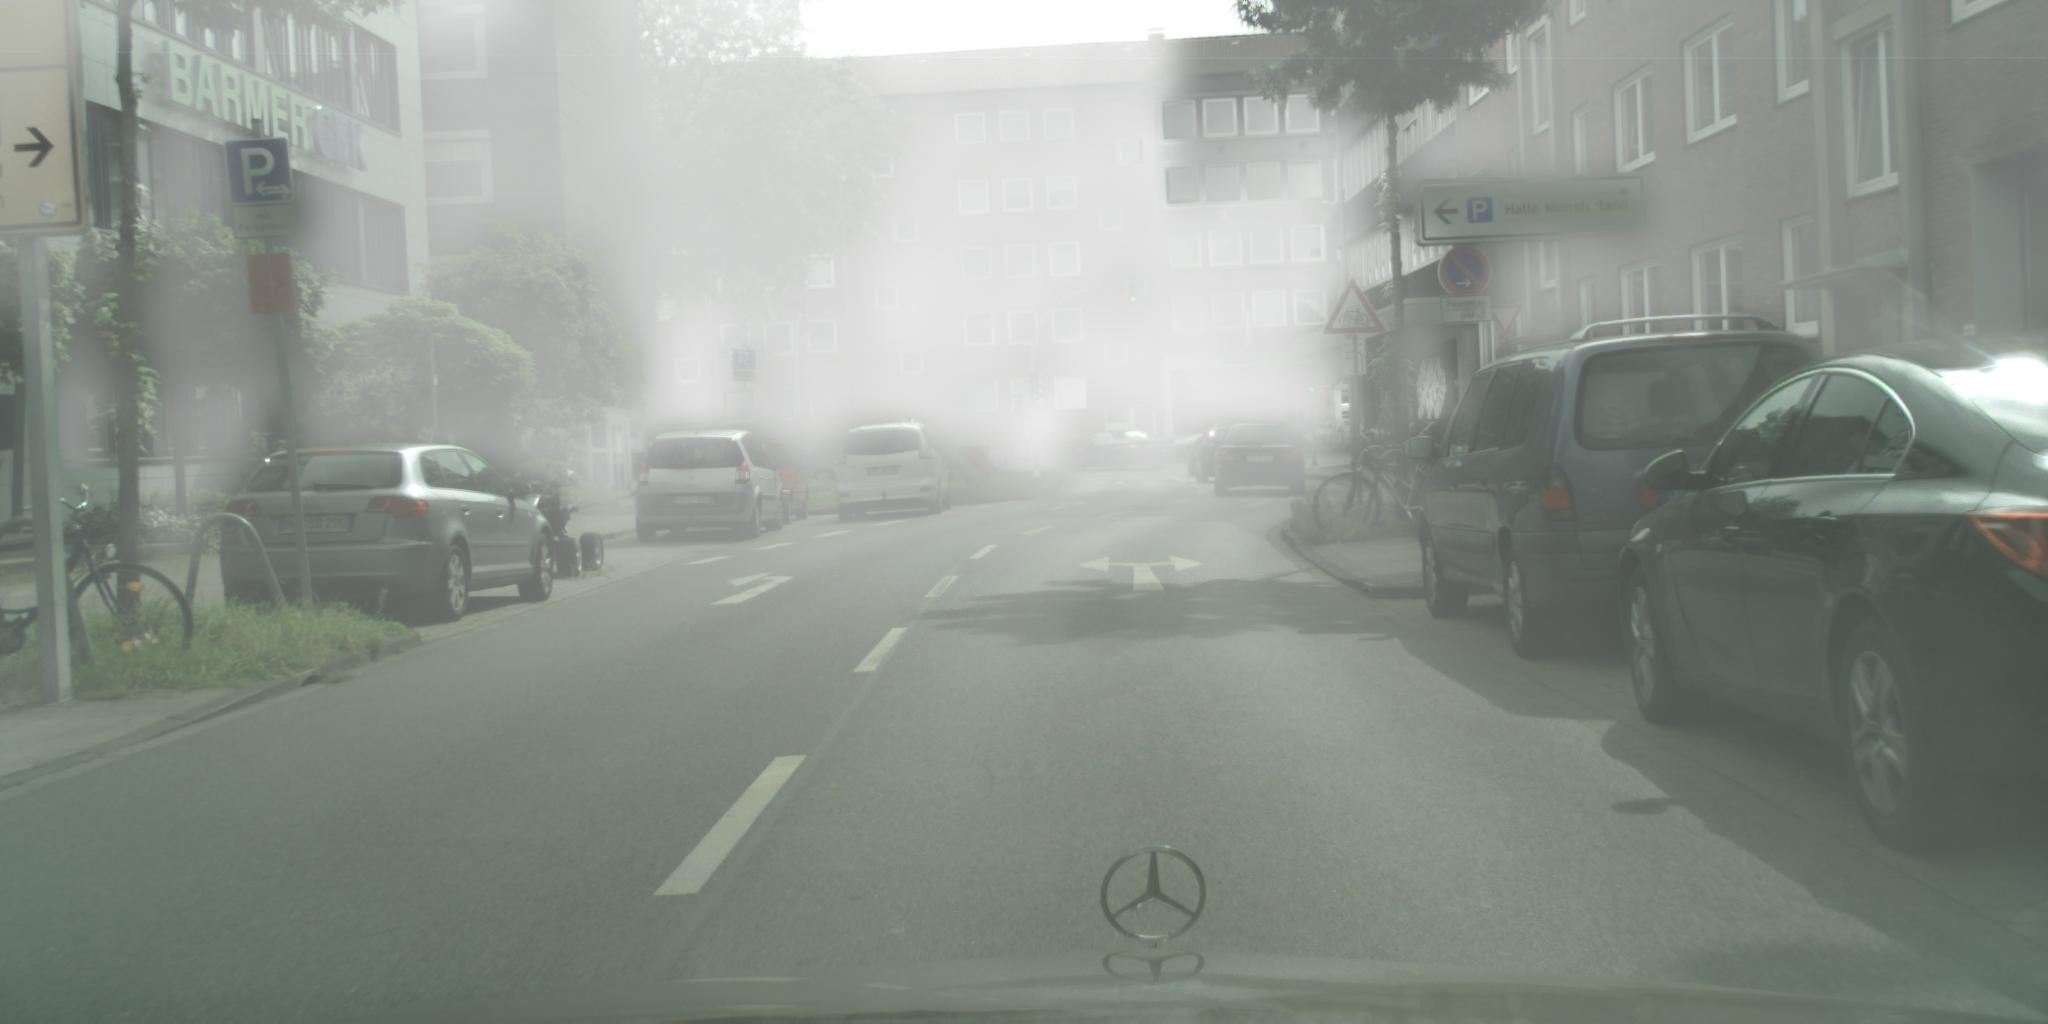bicycle: (3, 481, 195, 666), (1311, 432, 1435, 537), (1382, 421, 1438, 460)
car: (1614, 330, 2048, 857), (1404, 315, 1836, 661), (221, 440, 560, 623), (633, 428, 789, 541), (837, 421, 953, 521), (1207, 422, 1311, 500), (754, 438, 811, 525), (1071, 430, 1176, 472), (1195, 424, 1253, 485), (1161, 421, 1243, 461), (785, 444, 837, 491), (808, 436, 854, 481), (1304, 417, 1358, 448), (1189, 435, 1217, 478)
